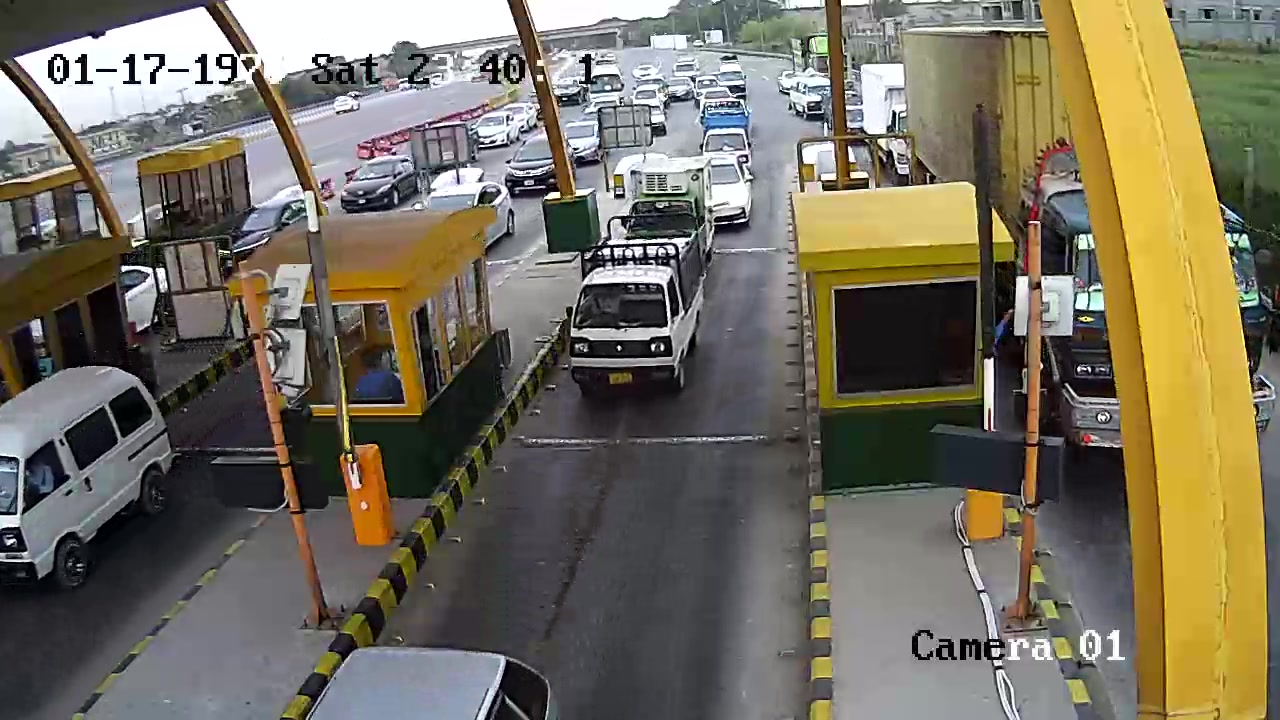F1: (564, 209, 715, 404)
